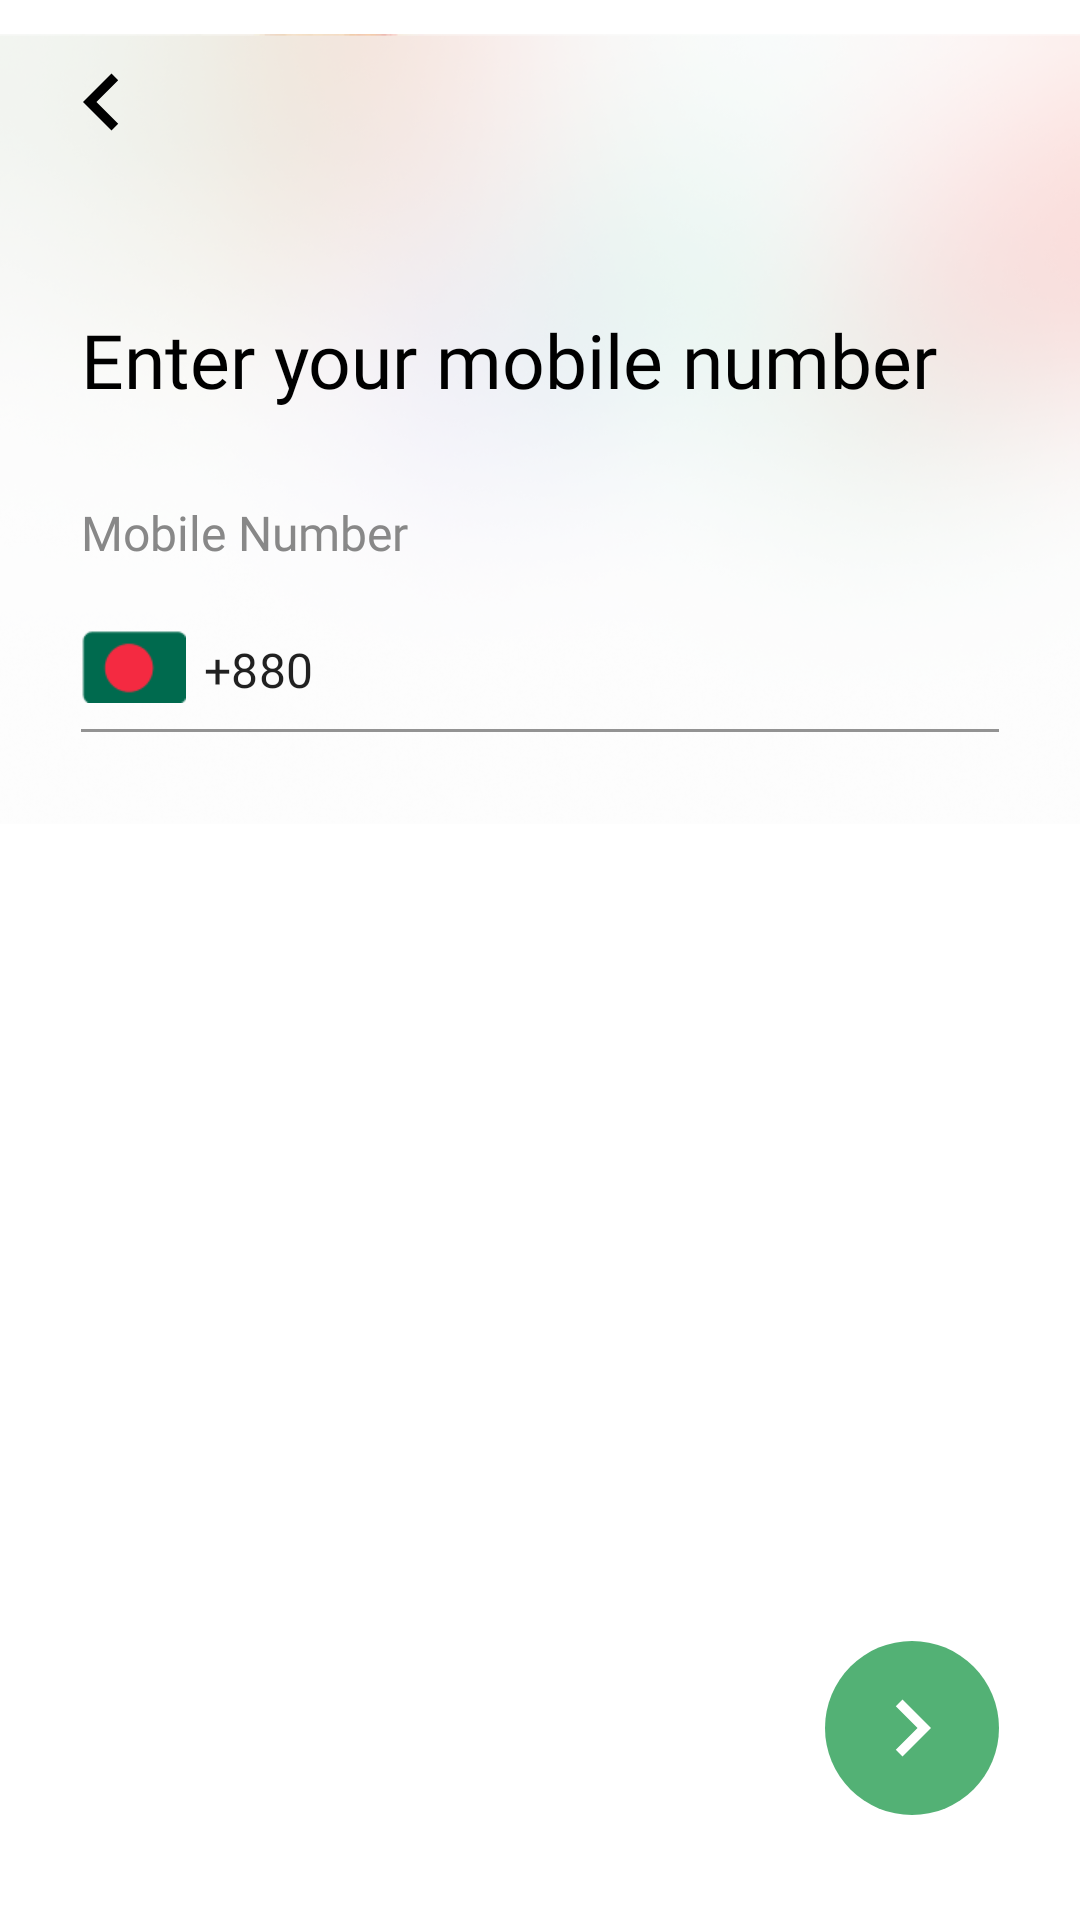

Named icons in this screenshot (1080*1920) and their bounding boxes, box=[x1, y1, x2, y2]:
arrow left: box=[83, 73, 118, 131]
arrow right: box=[825, 1641, 999, 1815]
flag: box=[82, 631, 186, 703]
